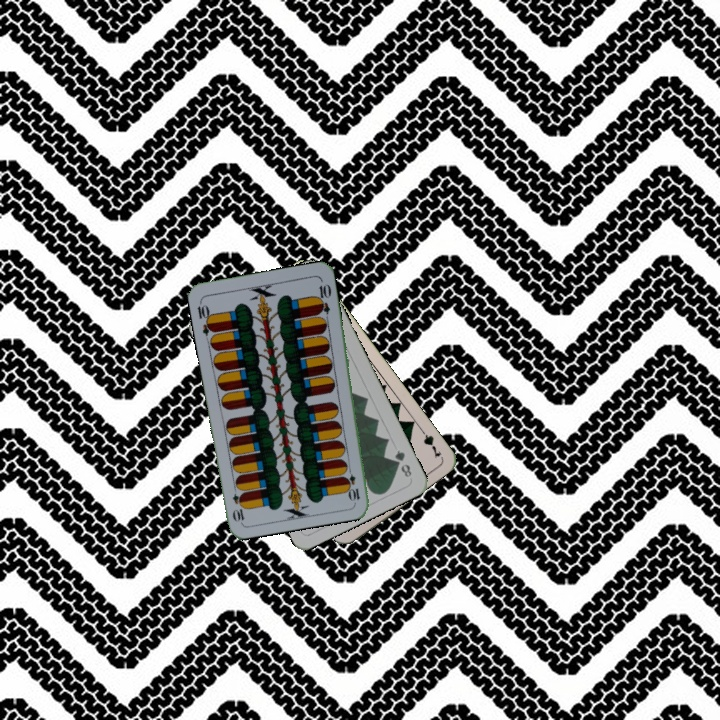E10: (193, 297, 217, 338), (343, 463, 362, 503)
G7: (415, 423, 444, 461)
G8: (390, 446, 414, 480)
